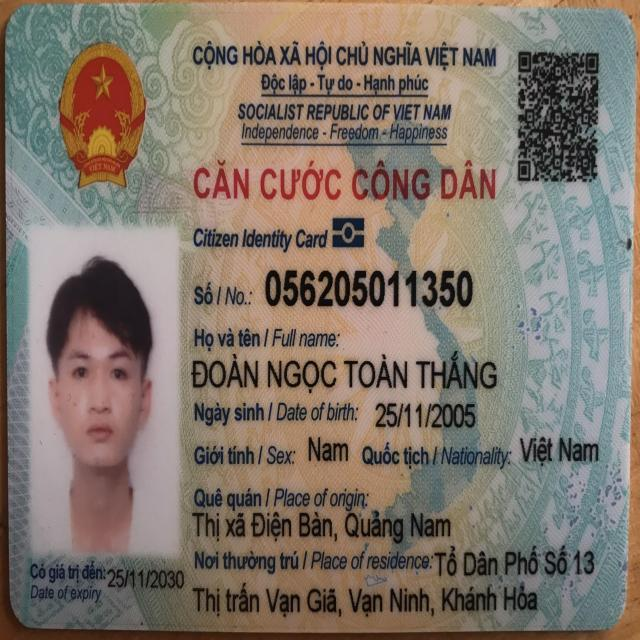current_place: (190, 579, 543, 623), (431, 543, 601, 580)
dob: (370, 395, 483, 439)
expire_date: (106, 564, 187, 599)
gender: (303, 428, 354, 469)
id: (256, 260, 482, 318)
name: (187, 349, 504, 400)
nationality: (517, 425, 606, 482)
origin_place: (186, 509, 457, 545)
qr: (514, 40, 603, 192)
